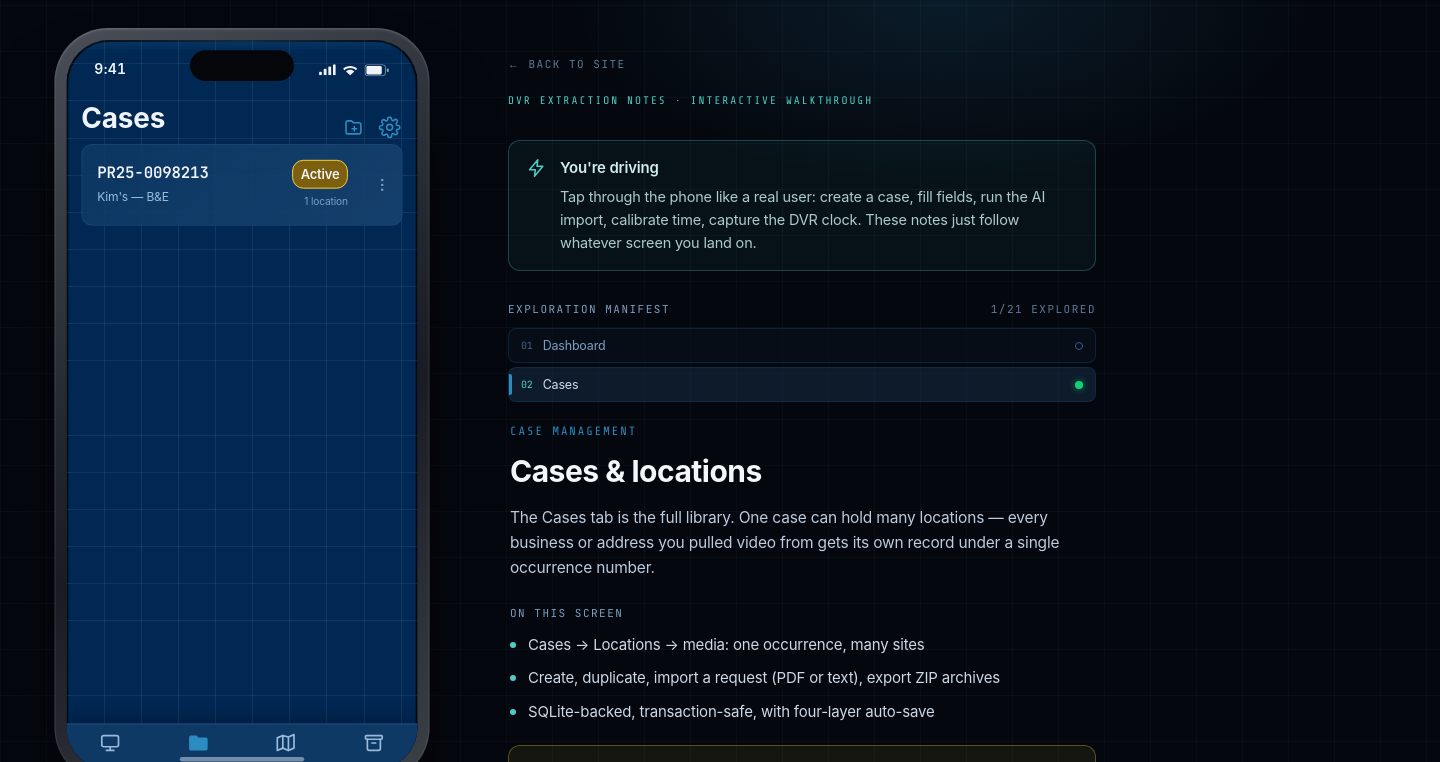
Scenario: DemoExperience — location action chooser › the two export actions (real flow since P5.3, honest terminal — plan D4) › Export GeoJSON says so without inventing a ZIP pipeline it does not have
This screenshot has width=1440, height=762.
Click the text "PR25-0098213" at (153, 172), box [97,162,209,182]
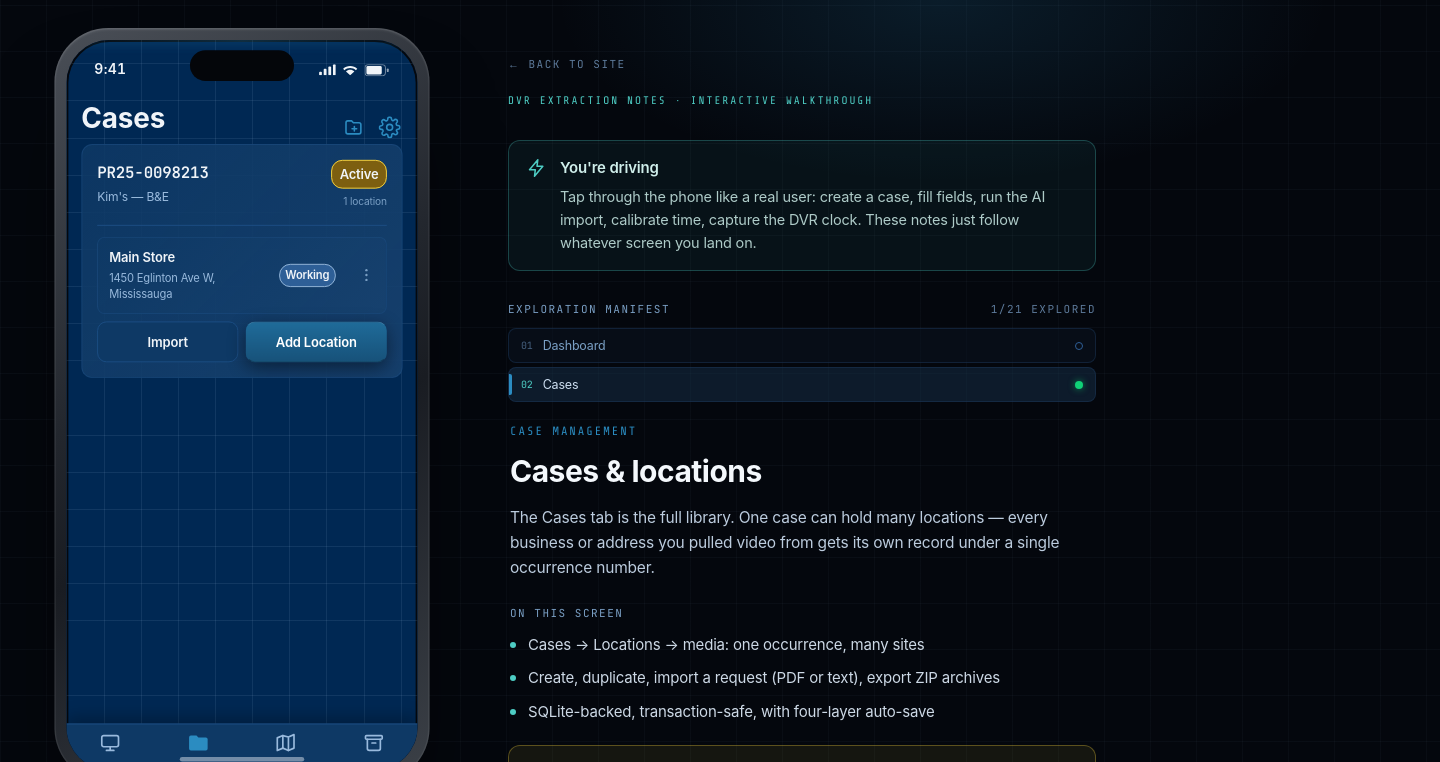
Click the button named "Actions for location Main Store" at (366, 275), box [347,238,386,313]
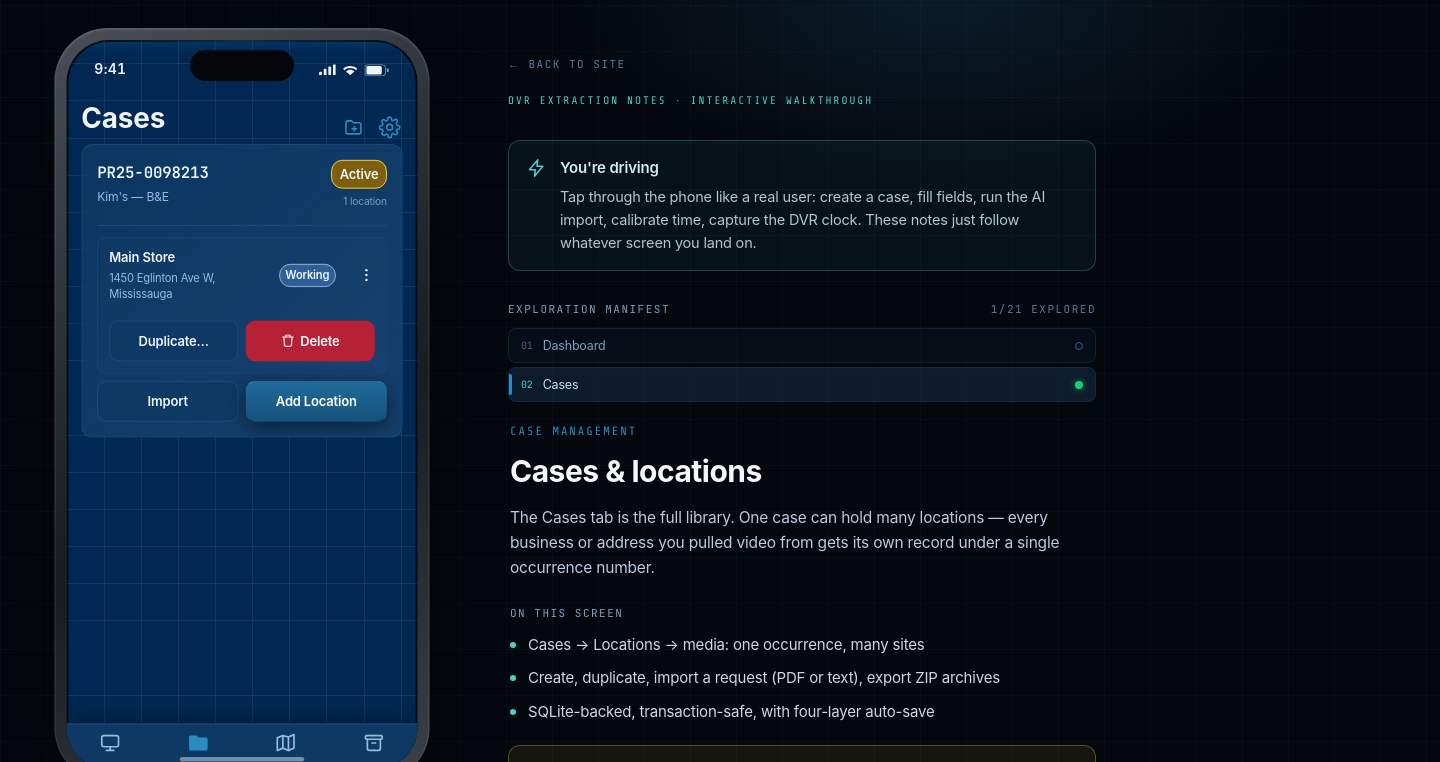
Click the button "Duplicate…" at (174, 341), box [109,320,238,361]
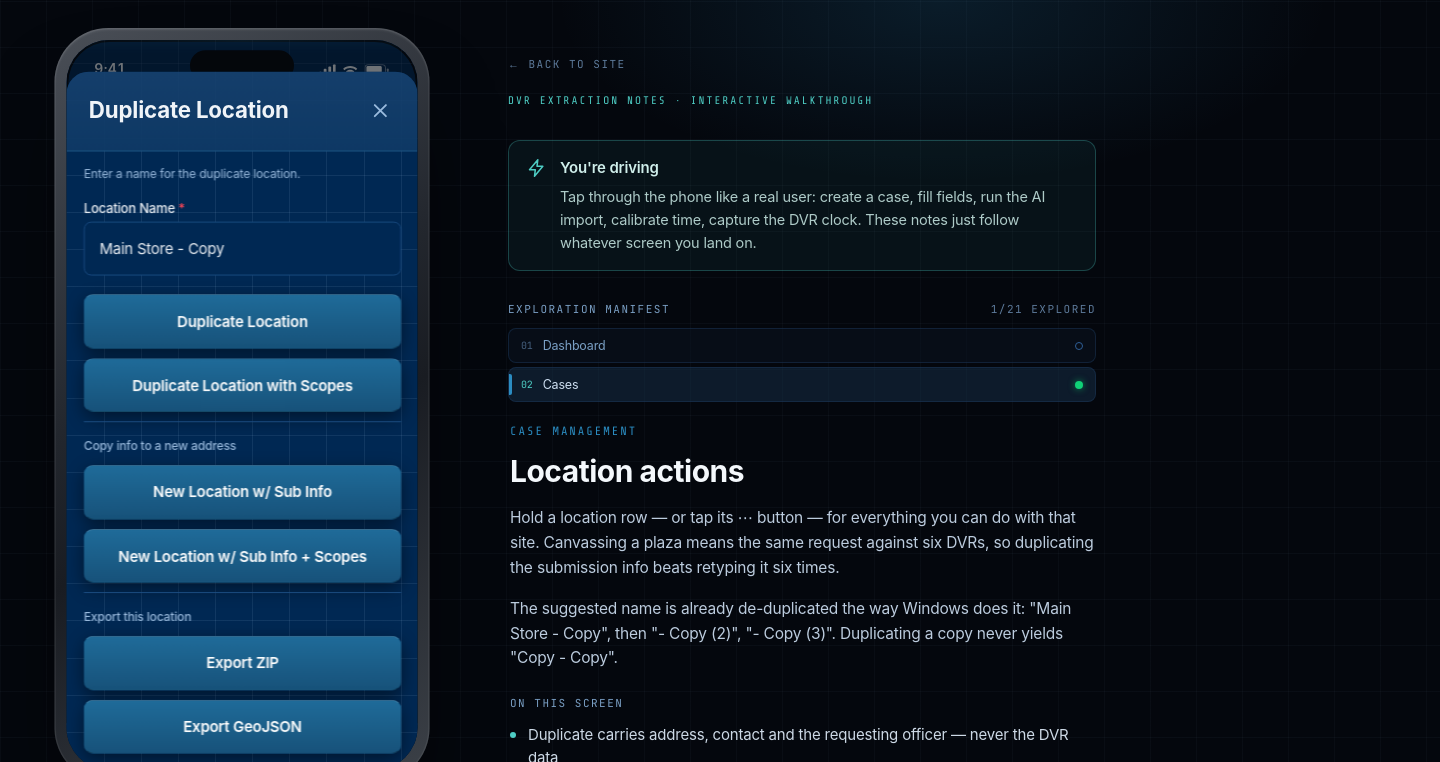
Click the button "Export GeoJSON" at (242, 726), box [83,699,401,754]
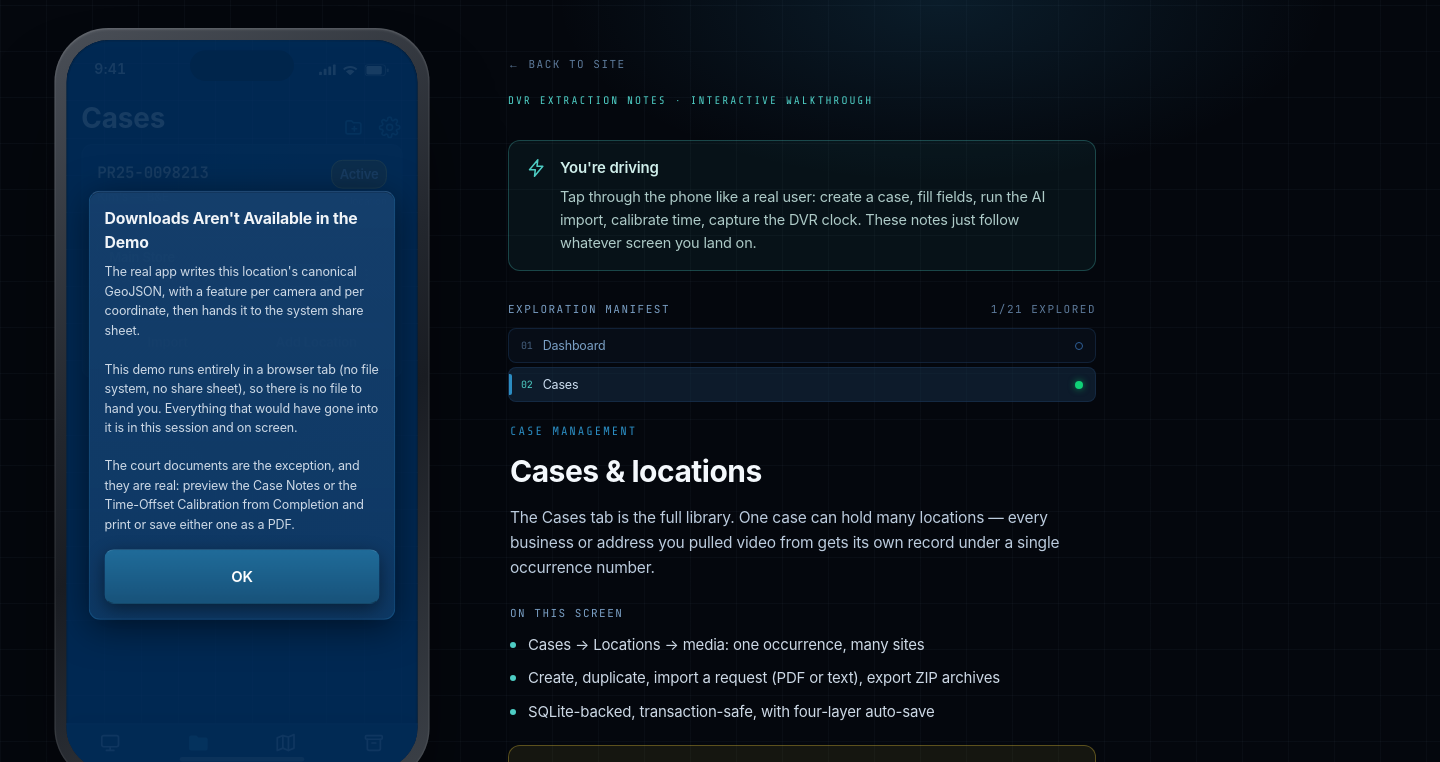
Expected: the dialog shows "canonical GeoJSON", [105,264,379,532]
